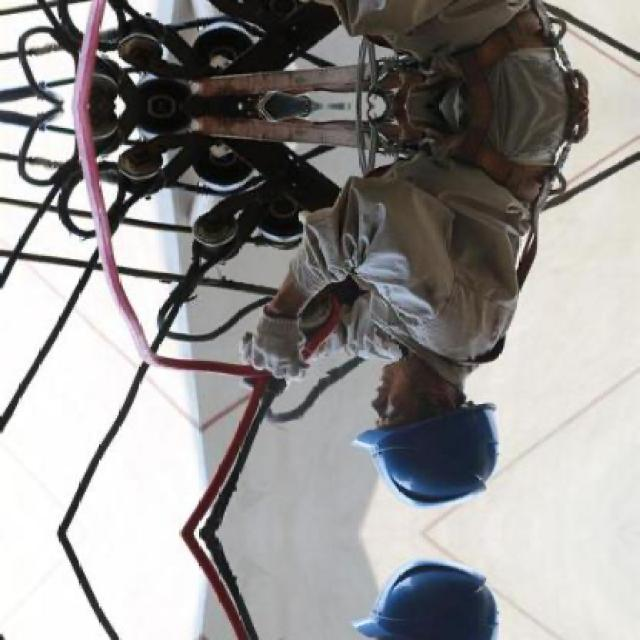con casco: (367, 332, 493, 508)
